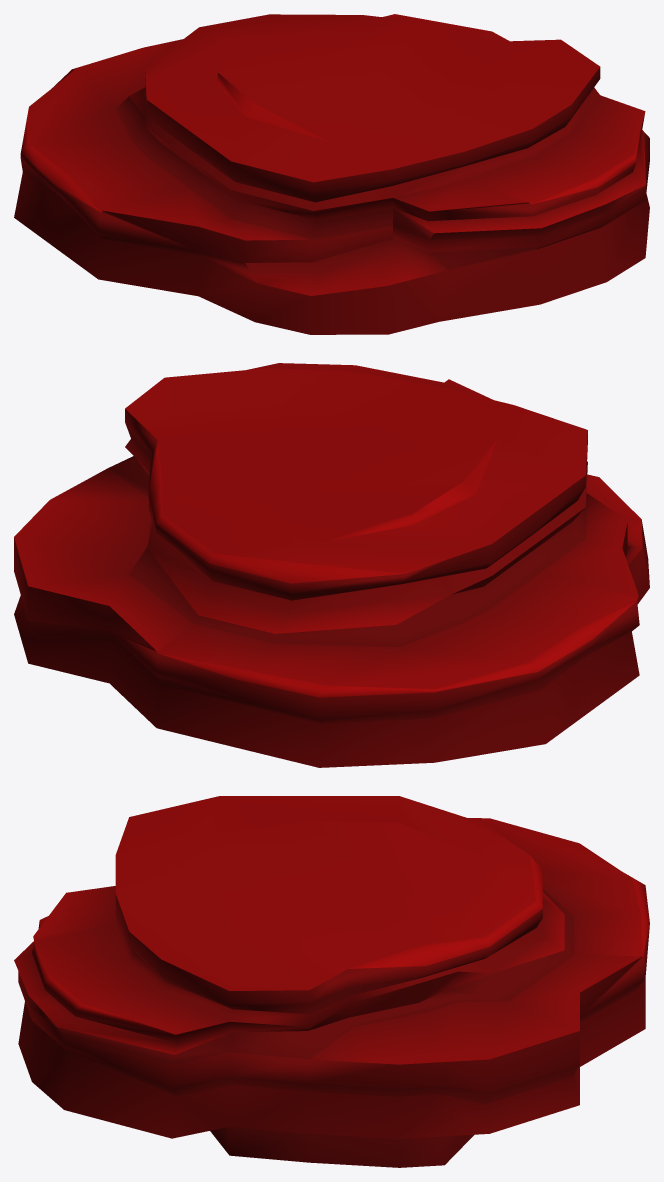
File: geology-rocks-rockflatlayered_v5.fbx
The picture shows the model from 3 angles, top to bottom: view 1: azimuth 30°, elevation 25°; view 2: azimuth 150°, elevation 25°; view 3: azimuth 270°, elevation 25°; orthographic projection. The views are drawn at different scales.
Visible parts, largest first — view 1: RockFlatLayered_v5; view 2: RockFlatLayered_v5; view 3: RockFlatLayered_v5.
Part boxes in pixels (x1=…): RockFlatLayered_v5: x1=14, y1=14, x2=649, y2=334; RockFlatLayered_v5: x1=14, y1=363, x2=649, y2=767; RockFlatLayered_v5: x1=14, y1=796, x2=649, y2=1167.
Size of the model in its own units: 6.76 by 2.17 by 7.14.
